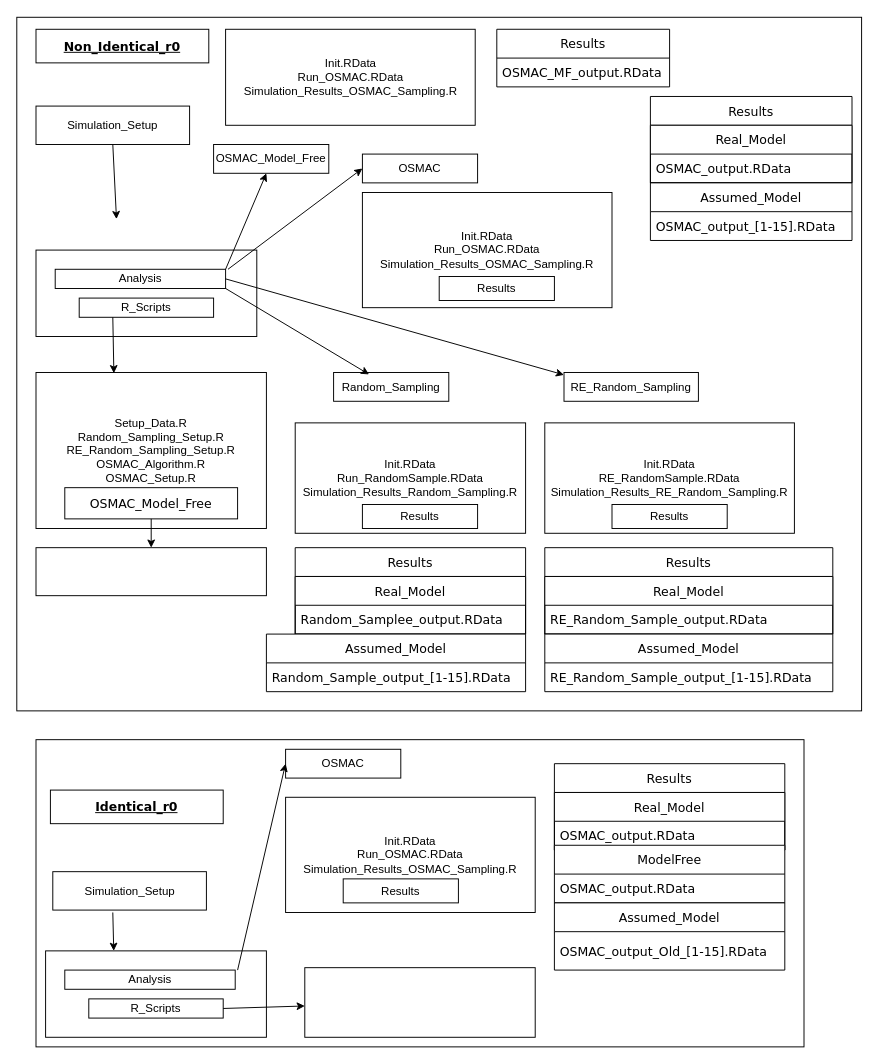
This 878x1064 diagram has some shape labels left out. The shapes that lost their labels are listed below. From the top down, each one's centre as x and y in pixels, then its label:
At [150,571]: "OSMAC_Algorithm_Model_Free.R OSMAC_Model_Free_Setup.R".
At [419,1002]: "Setup_Data.R OSMAC_Algorithm.R OSMAC_Setup.R".
